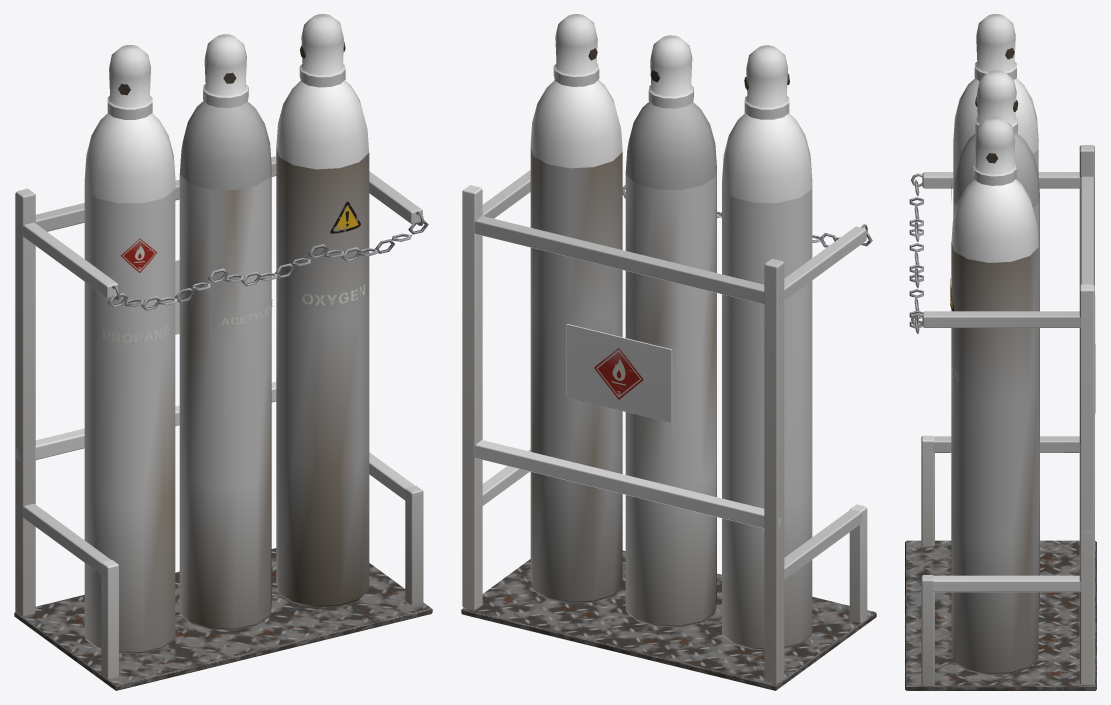
Rendered from gas_cylinders.glb.
3 renders of one model, left to right at view 1: azimuth 30°, elevation 25°; view 2: azimuth 150°, elevation 25°; view 3: azimuth 270°, elevation 25°, orthographic. The views are drawn at different scales.
Visible parts, largest first — view 1: gas_cylinders; view 2: gas_cylinders; view 3: gas_cylinders.
Part boxes in pixels (left/top/right/bottom): gas_cylinders: left=14, top=14, right=432, bottom=690; gas_cylinders: left=461, top=14, right=876, bottom=690; gas_cylinders: left=905, top=14, right=1096, bottom=690.
Size of the model in its own units: 0.9081 by 1.6 by 0.5.
10 materials, 10 textured.
